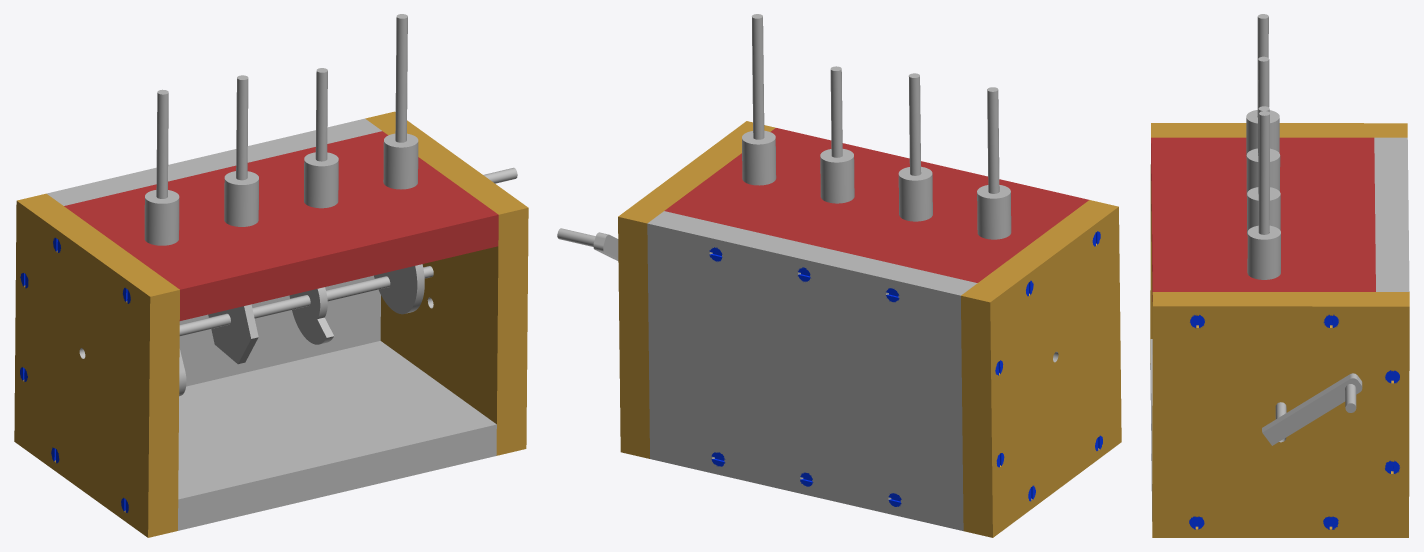
The model's file is Final Full Assembly.glb.
3 renders of one model, left to right at view 1: azimuth 30°, elevation 25°; view 2: azimuth 150°, elevation 25°; view 3: azimuth 270°, elevation 25°, orthographic. The views are drawn at different scales.
Parts seen in each view (by area): view 1: Solid1 (×15), Solid2 (×2); view 2: Solid1 (×11), Solid2 (×2); view 3: Solid2 (×2), Solid1 (×11).
Boxes of the visible parts, x1=… form: Solid1 (×15): x1=46, y1=14, x2=517, y2=530; Solid2 (×2): x1=14, y1=111, x2=528, y2=537; Solid1 (×11): x1=557, y1=14, x2=1088, y2=530; Solid2 (×2): x1=618, y1=121, x2=1121, y2=537; Solid2 (×2): x1=1150, y1=123, x2=1409, y2=537; Solid1 (×11): x1=1150, y1=14, x2=1409, y2=521.
Bounding box in the file's own units: 0.2998 × 0.2472 × 0.1475.
